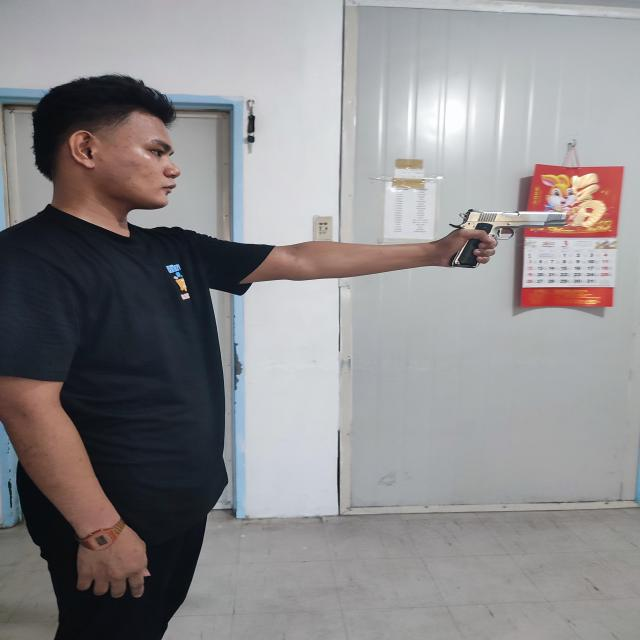pistol: (449, 209, 566, 268)
